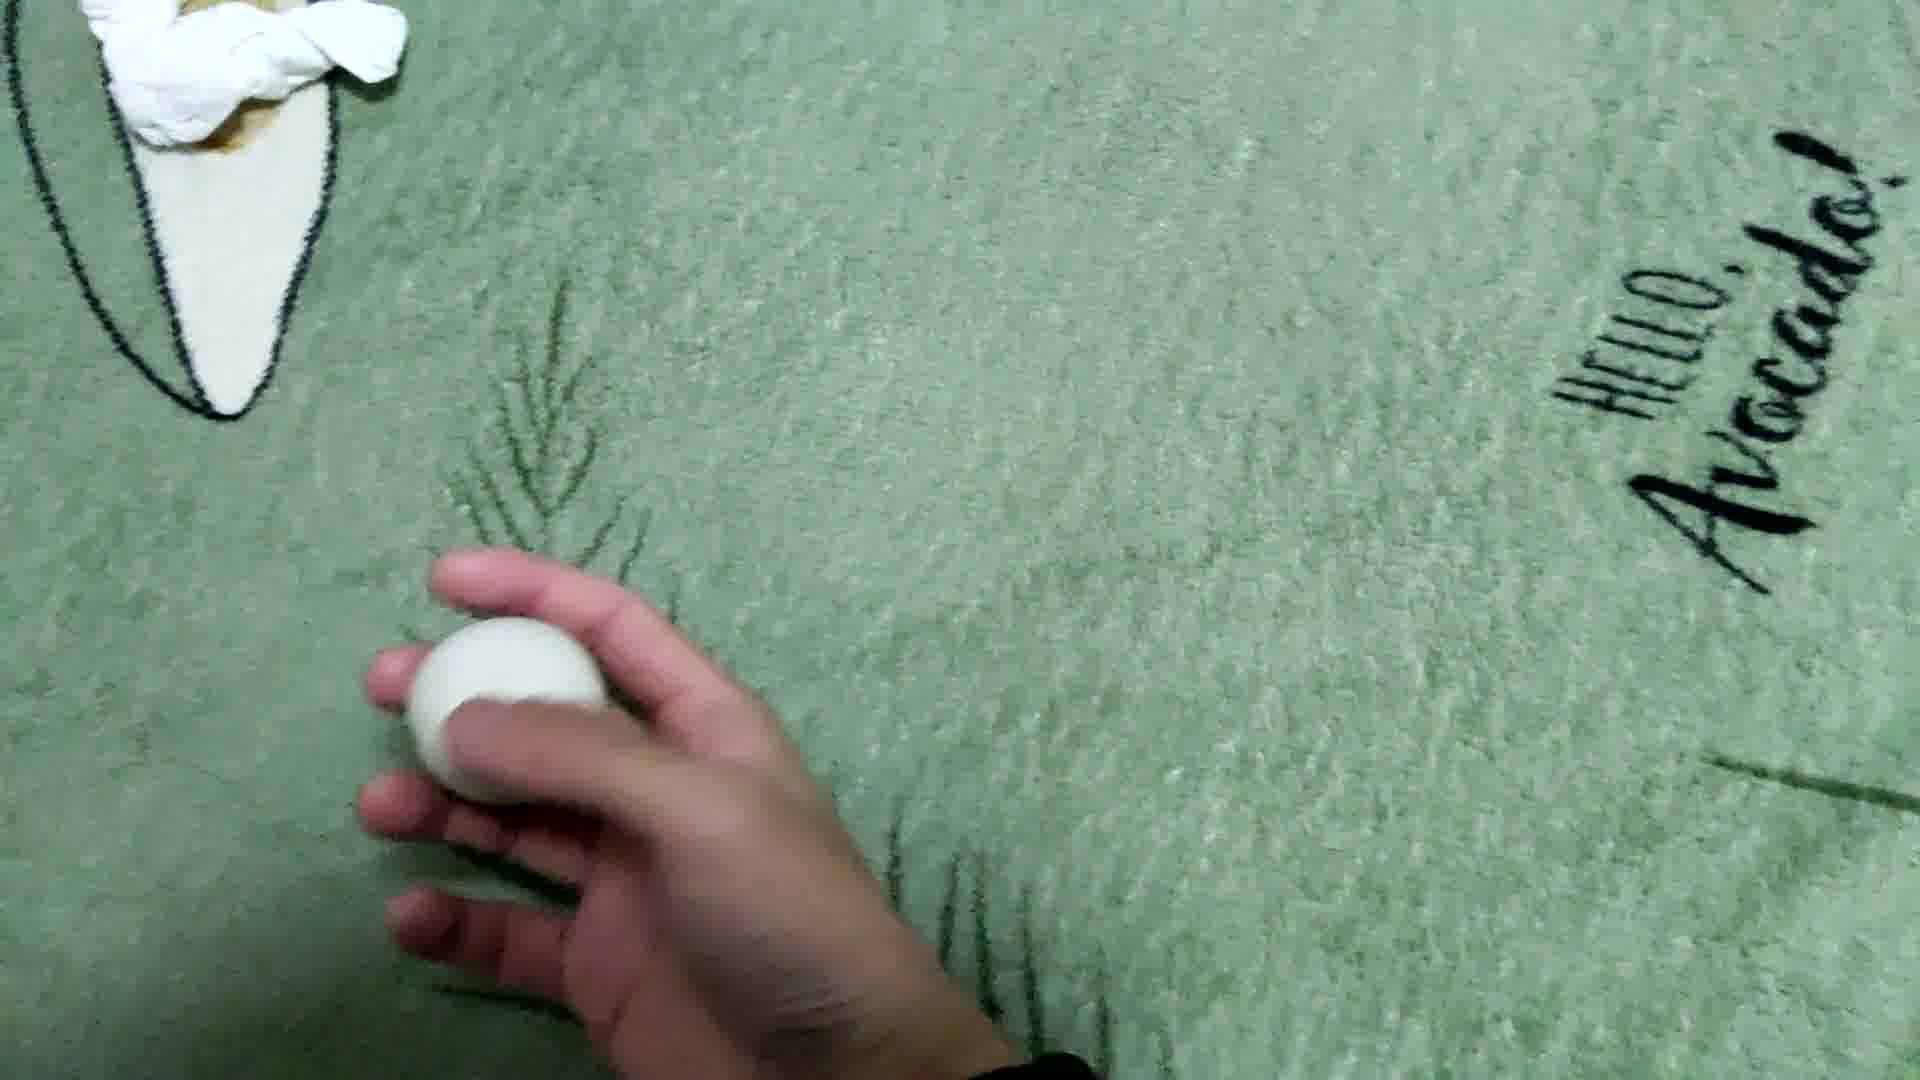Ball: (406, 613, 612, 803)
